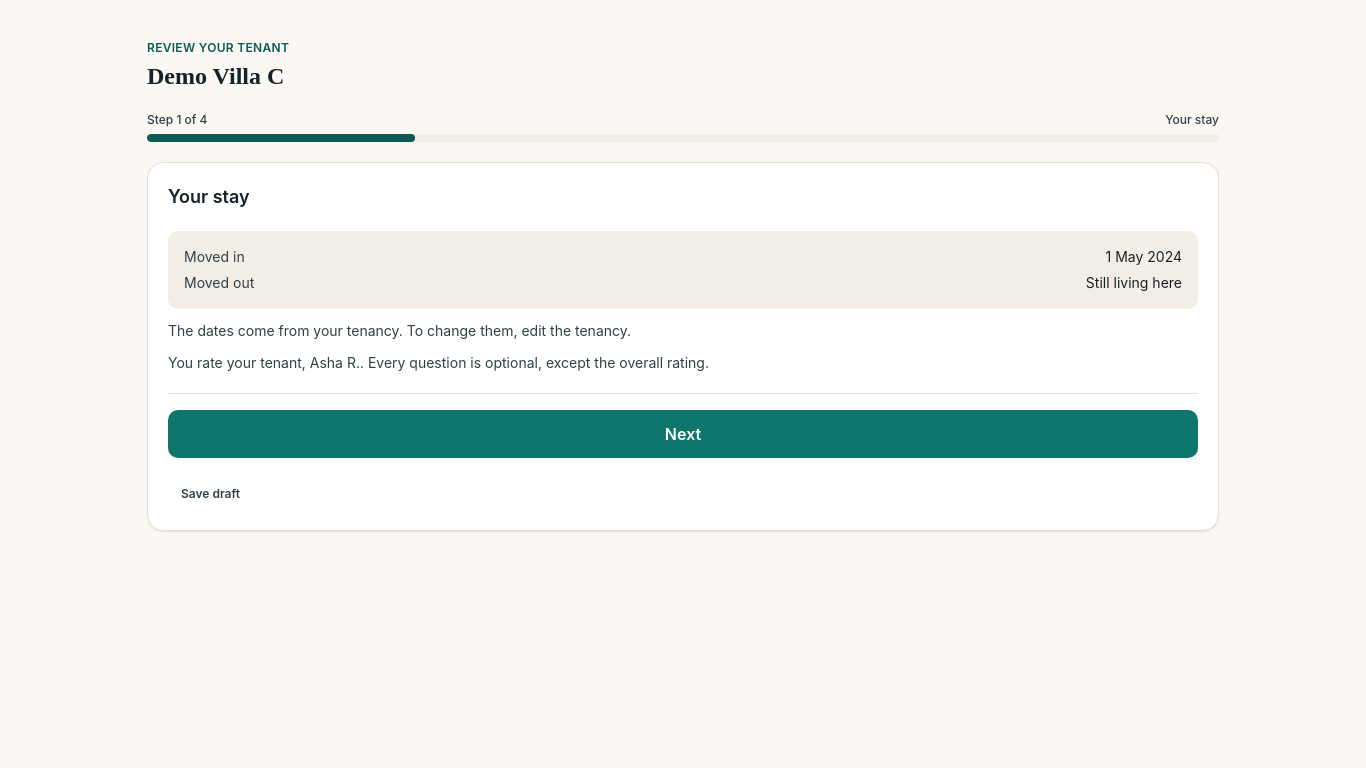
Test: review form › shows the owner no tenant invite card after they review their tenant
This screenshot has width=1366, height=768.
Click the button with test id "review-next".
click(683, 434)  # box [168,410,1198,458]
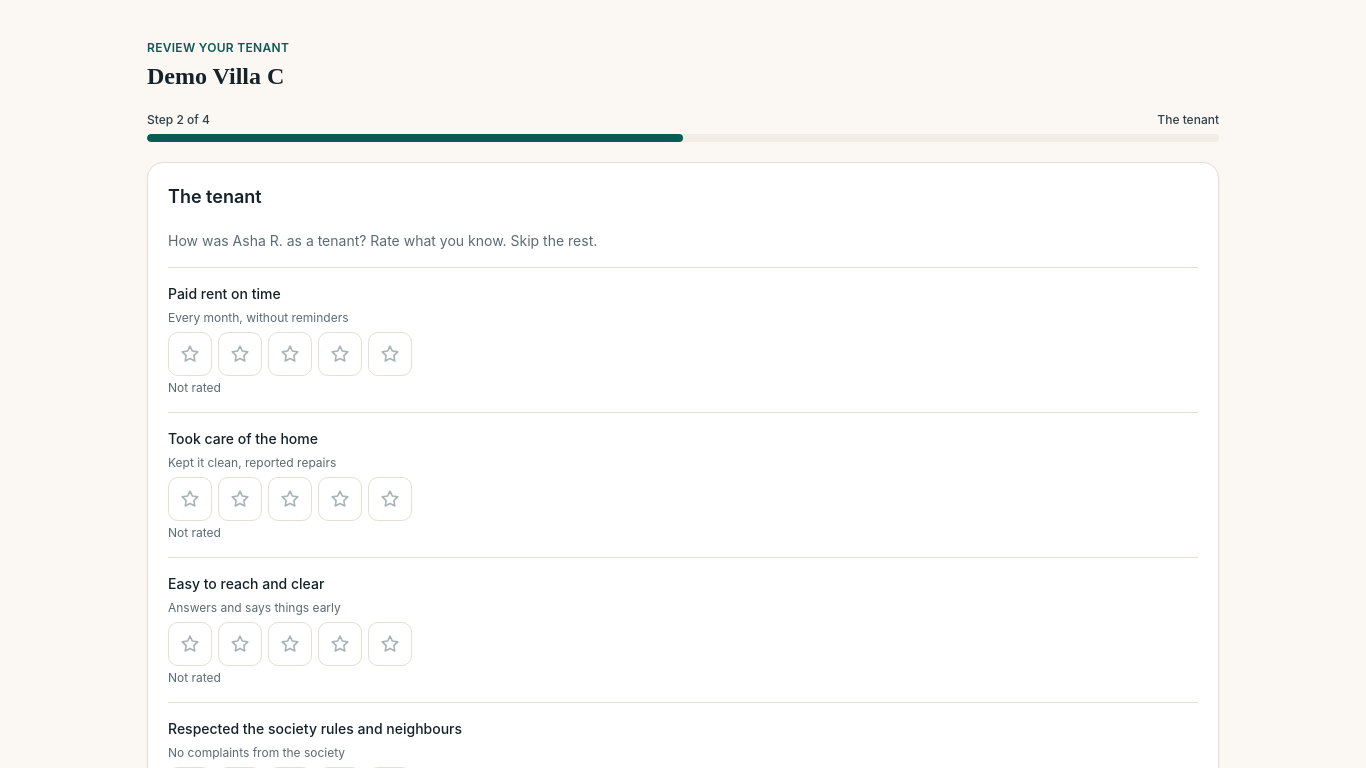
Click the radio button with test id "rate-RENT_ON_TIME-4".
click(340, 354)  # box [318,332,362,376]
(page scrolled)
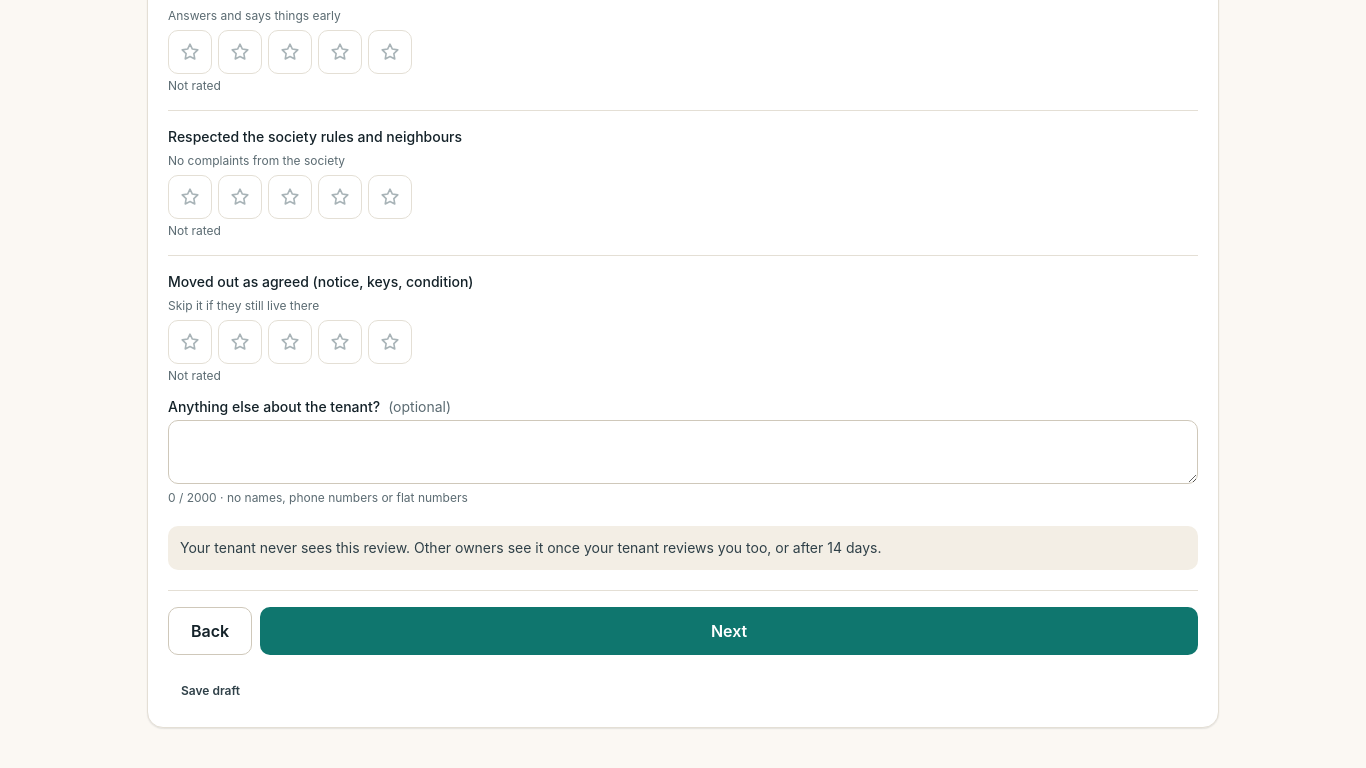
Click the button with test id "review-next".
click(729, 631)  # box [260,607,1198,655]
(page scrolled)
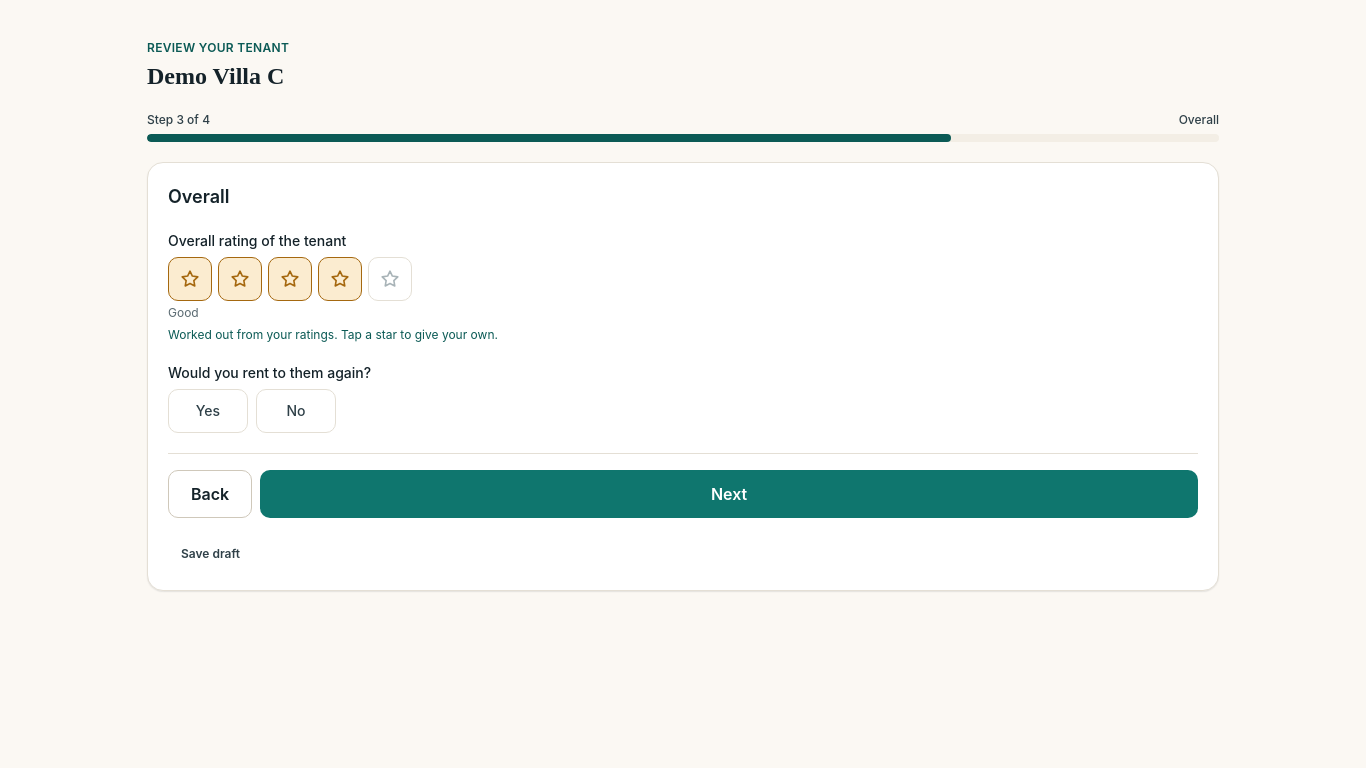
Click the radio button with test id "overall-tenant-4".
click(340, 279)  # box [318,257,362,301]
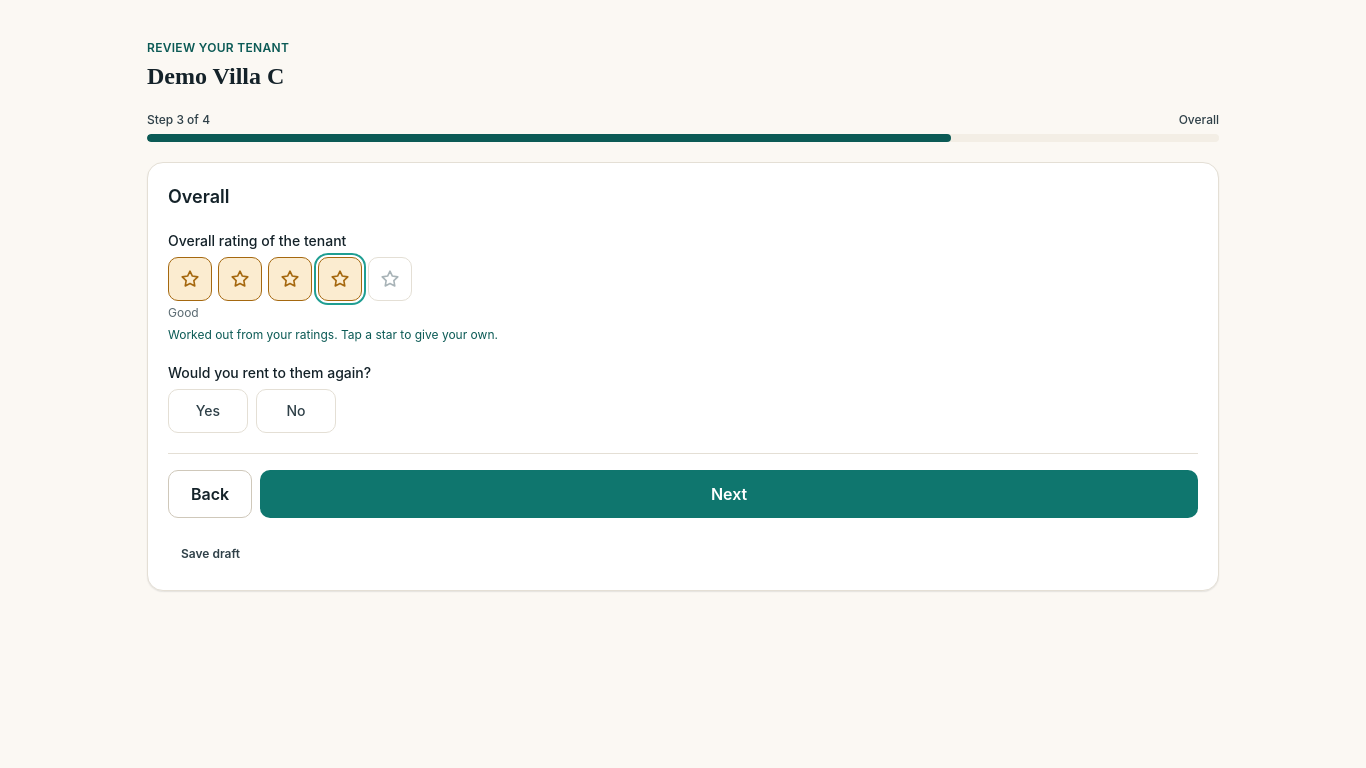
Click the button with test id "review-next".
click(729, 494)  # box [260,470,1198,518]
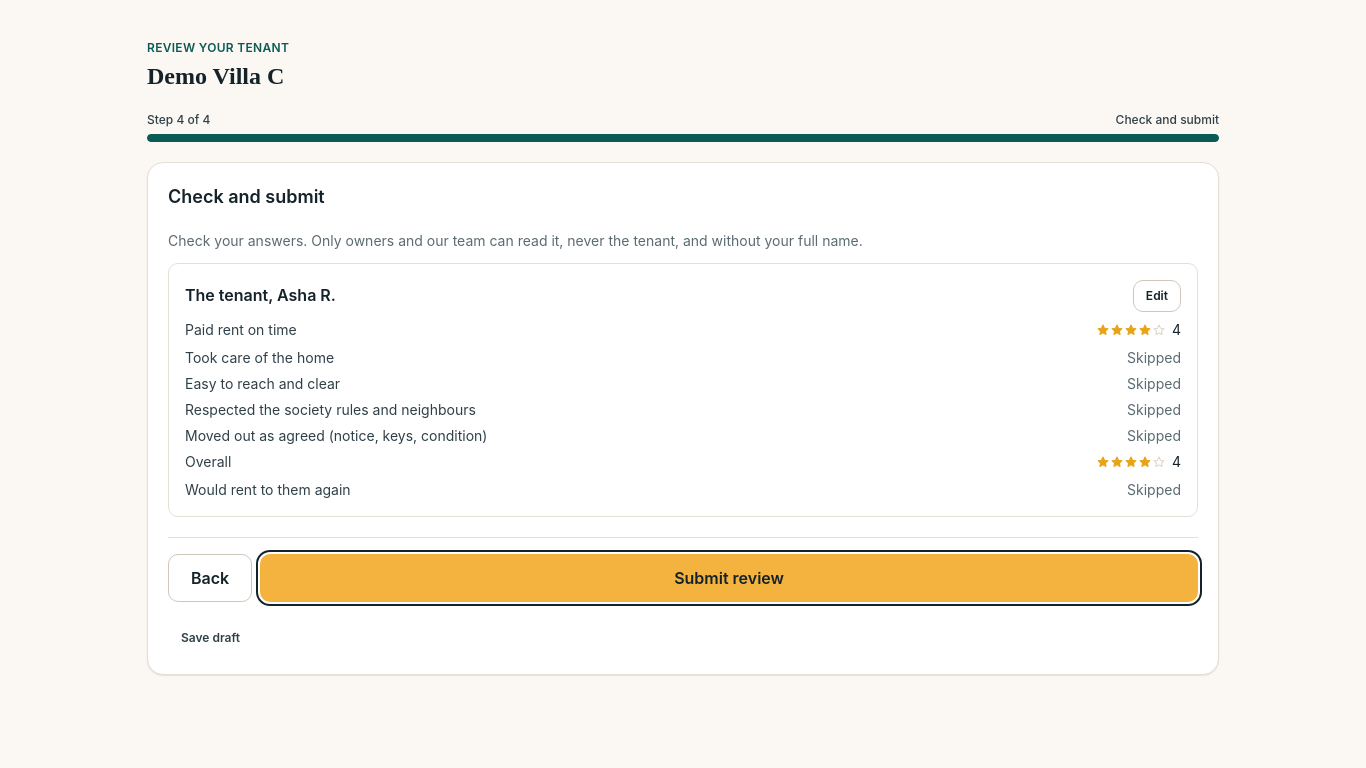
Click the button with test id "review-submit".
click(729, 578)  # box [260,554,1198,602]
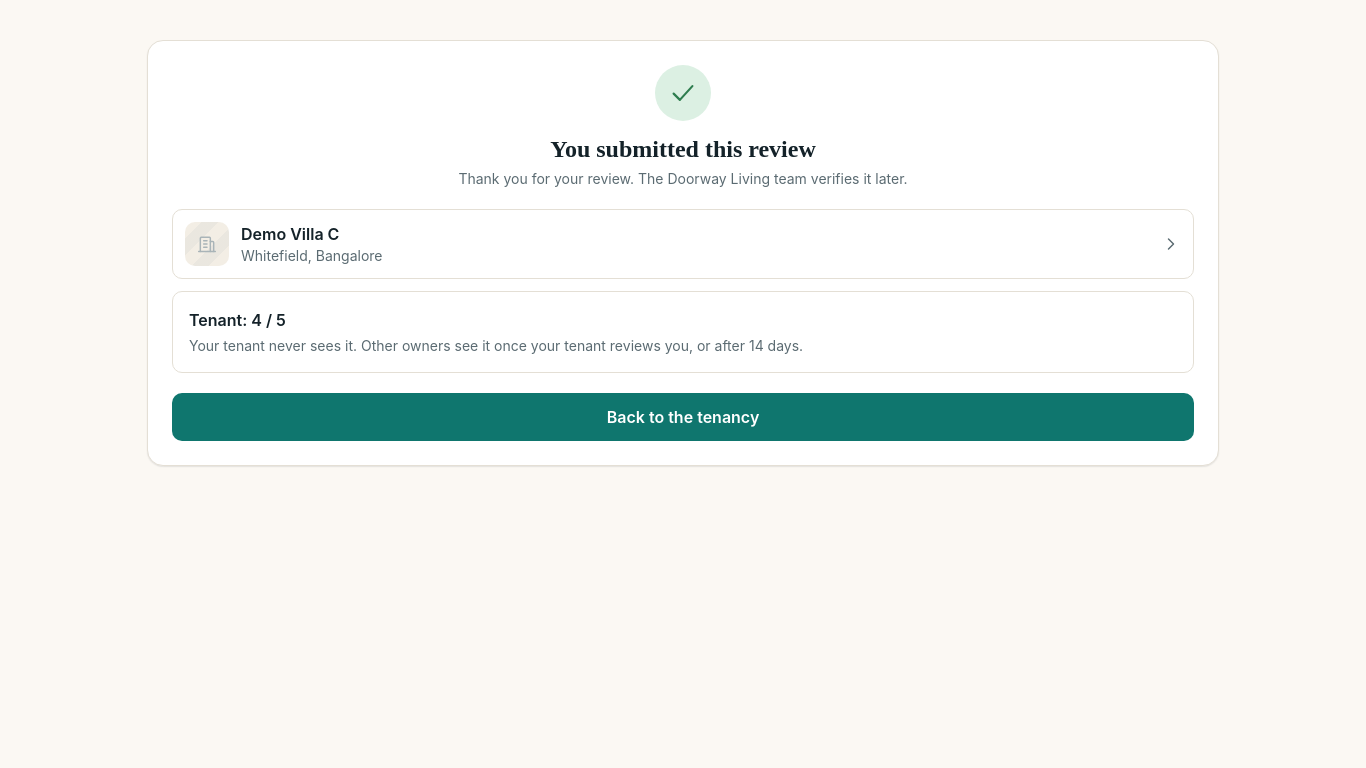
Check: the element with test id "review-submitted" is shown, box [147,40,1219,466]
Check: the text with test id "review-tenant-state" is shown, box [189,337,803,354]
